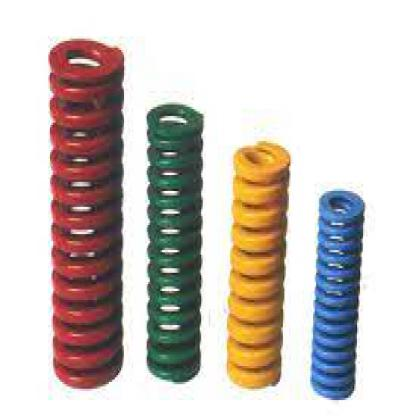FOD: (47, 36, 132, 391), (225, 122, 294, 392), (145, 99, 210, 381), (308, 182, 365, 398)
